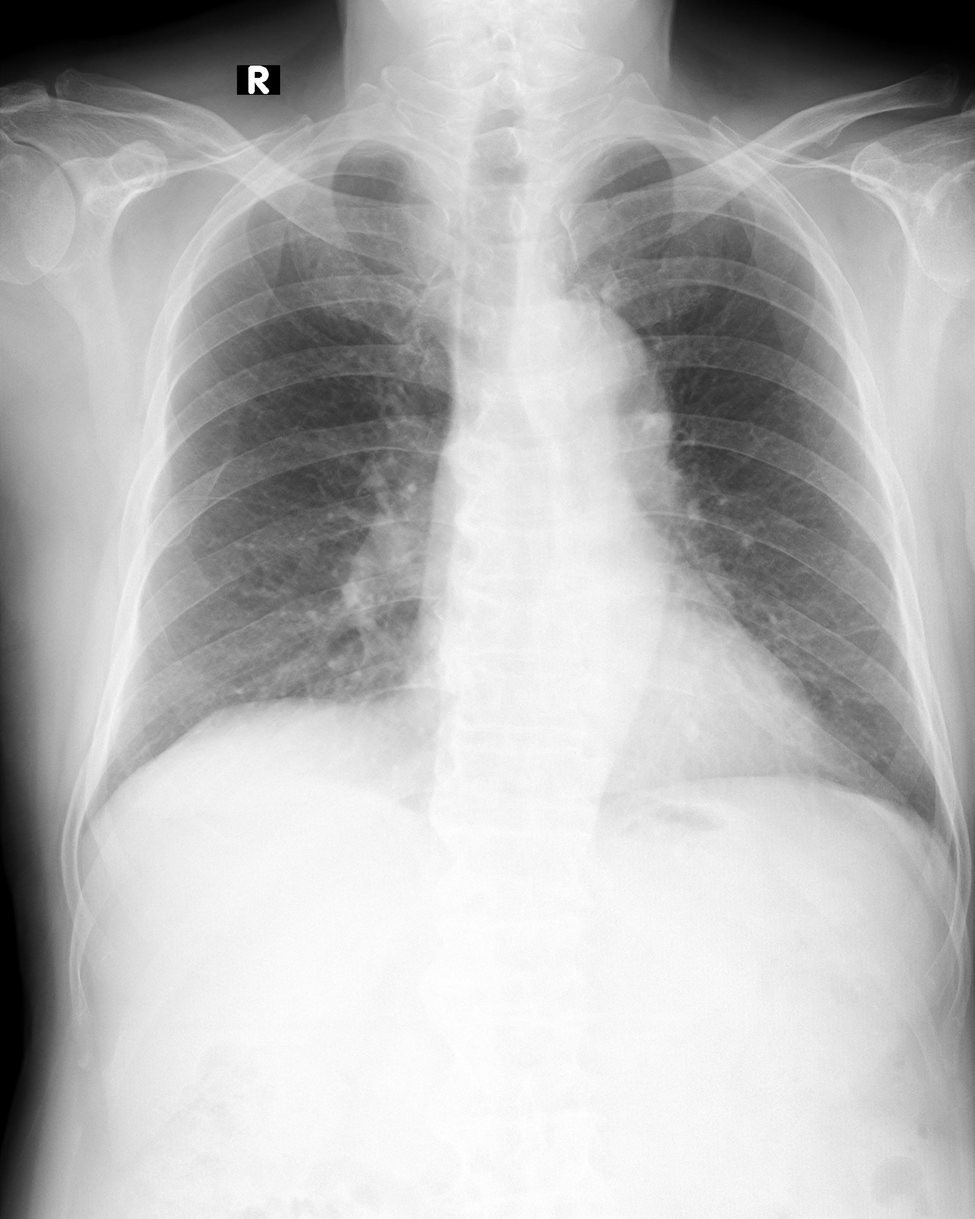Aortic enlargement: (518, 299, 674, 440)
Pleural thickening: (682, 137, 774, 201)
